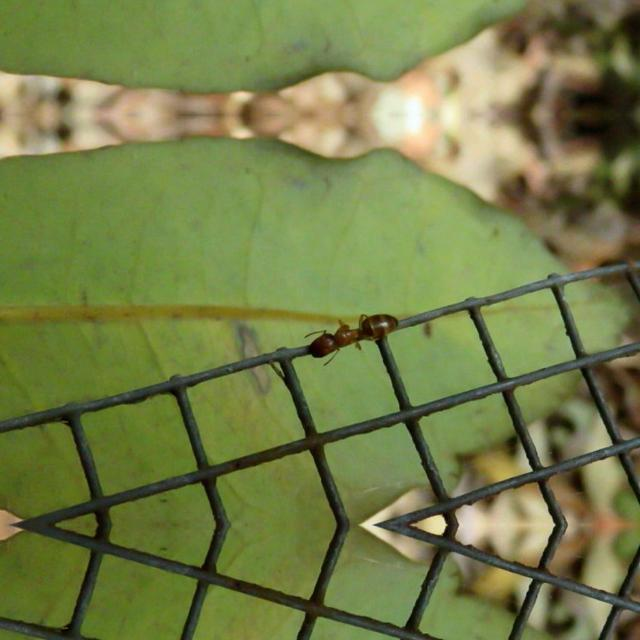Colobopsis: (294, 304, 412, 366)
